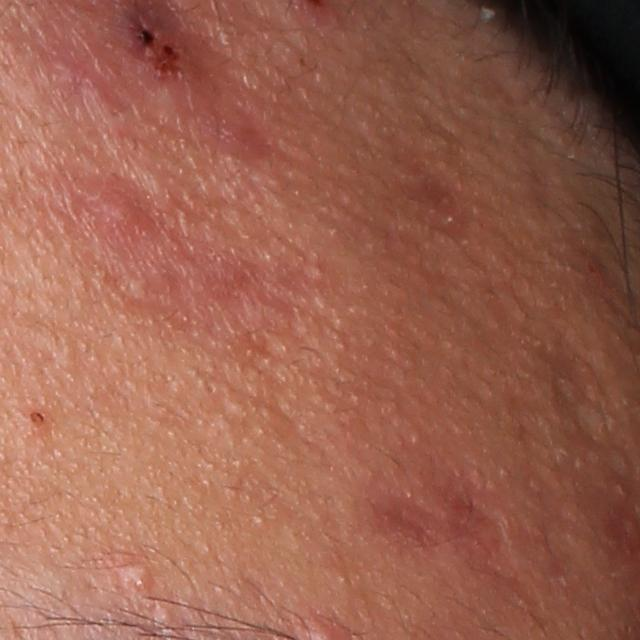comedo: (153, 603, 174, 628), (26, 410, 46, 430)
papule: (69, 172, 150, 240), (120, 560, 148, 588)
